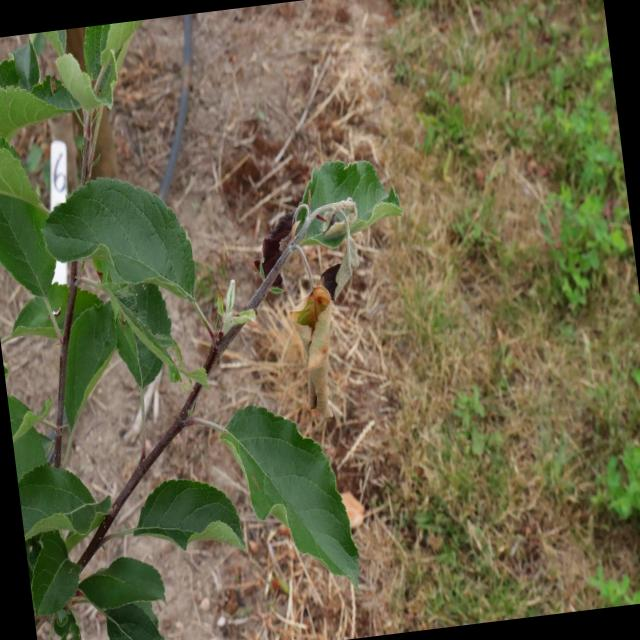-FireBlight-: (278, 222, 356, 415)
